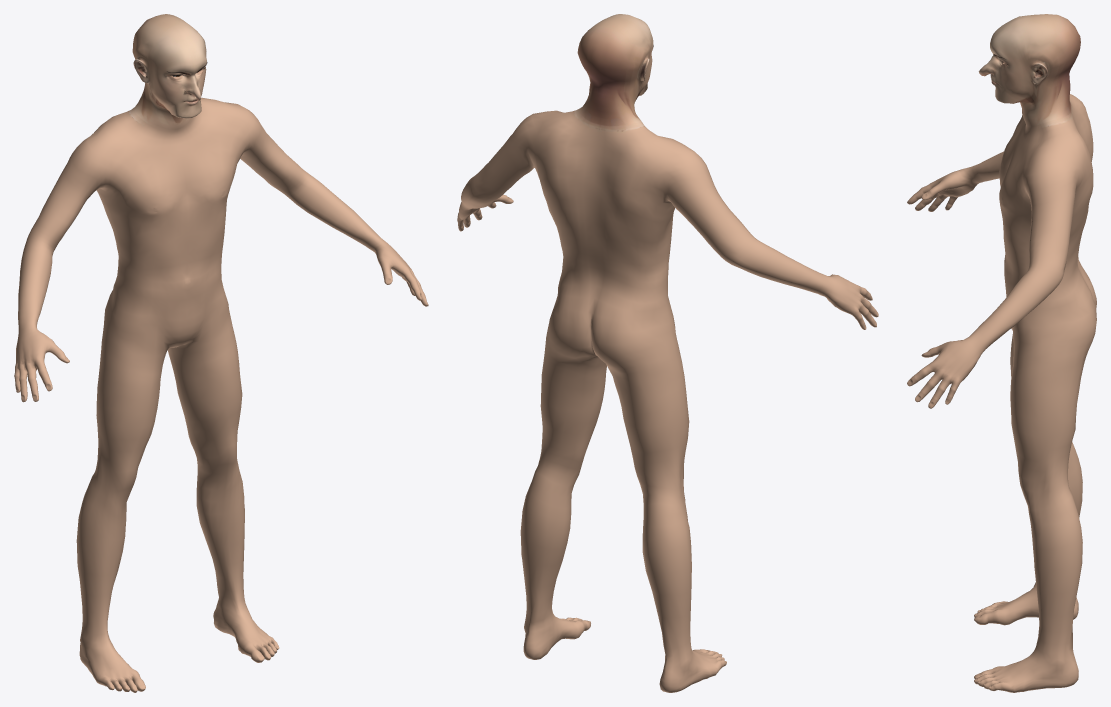
Rendered from head_base_v2_tex.glb.
The picture shows the model from 3 angles, left to right: view 1: azimuth 30°, elevation 25°; view 2: azimuth 150°, elevation 25°; view 3: azimuth 270°, elevation 25°; orthographic projection.
Visible parts, largest first — view 1: body; view 2: body; view 3: body.
Part boxes in pixels (x1,y1,x2,y2): body: [14, 14, 428, 692]; body: [457, 14, 878, 692]; body: [907, 14, 1096, 692].
Bounding box in the file's own units: 1.11 × 1.66 × 0.4497.
Materials: 4 (4 with a texture image).
